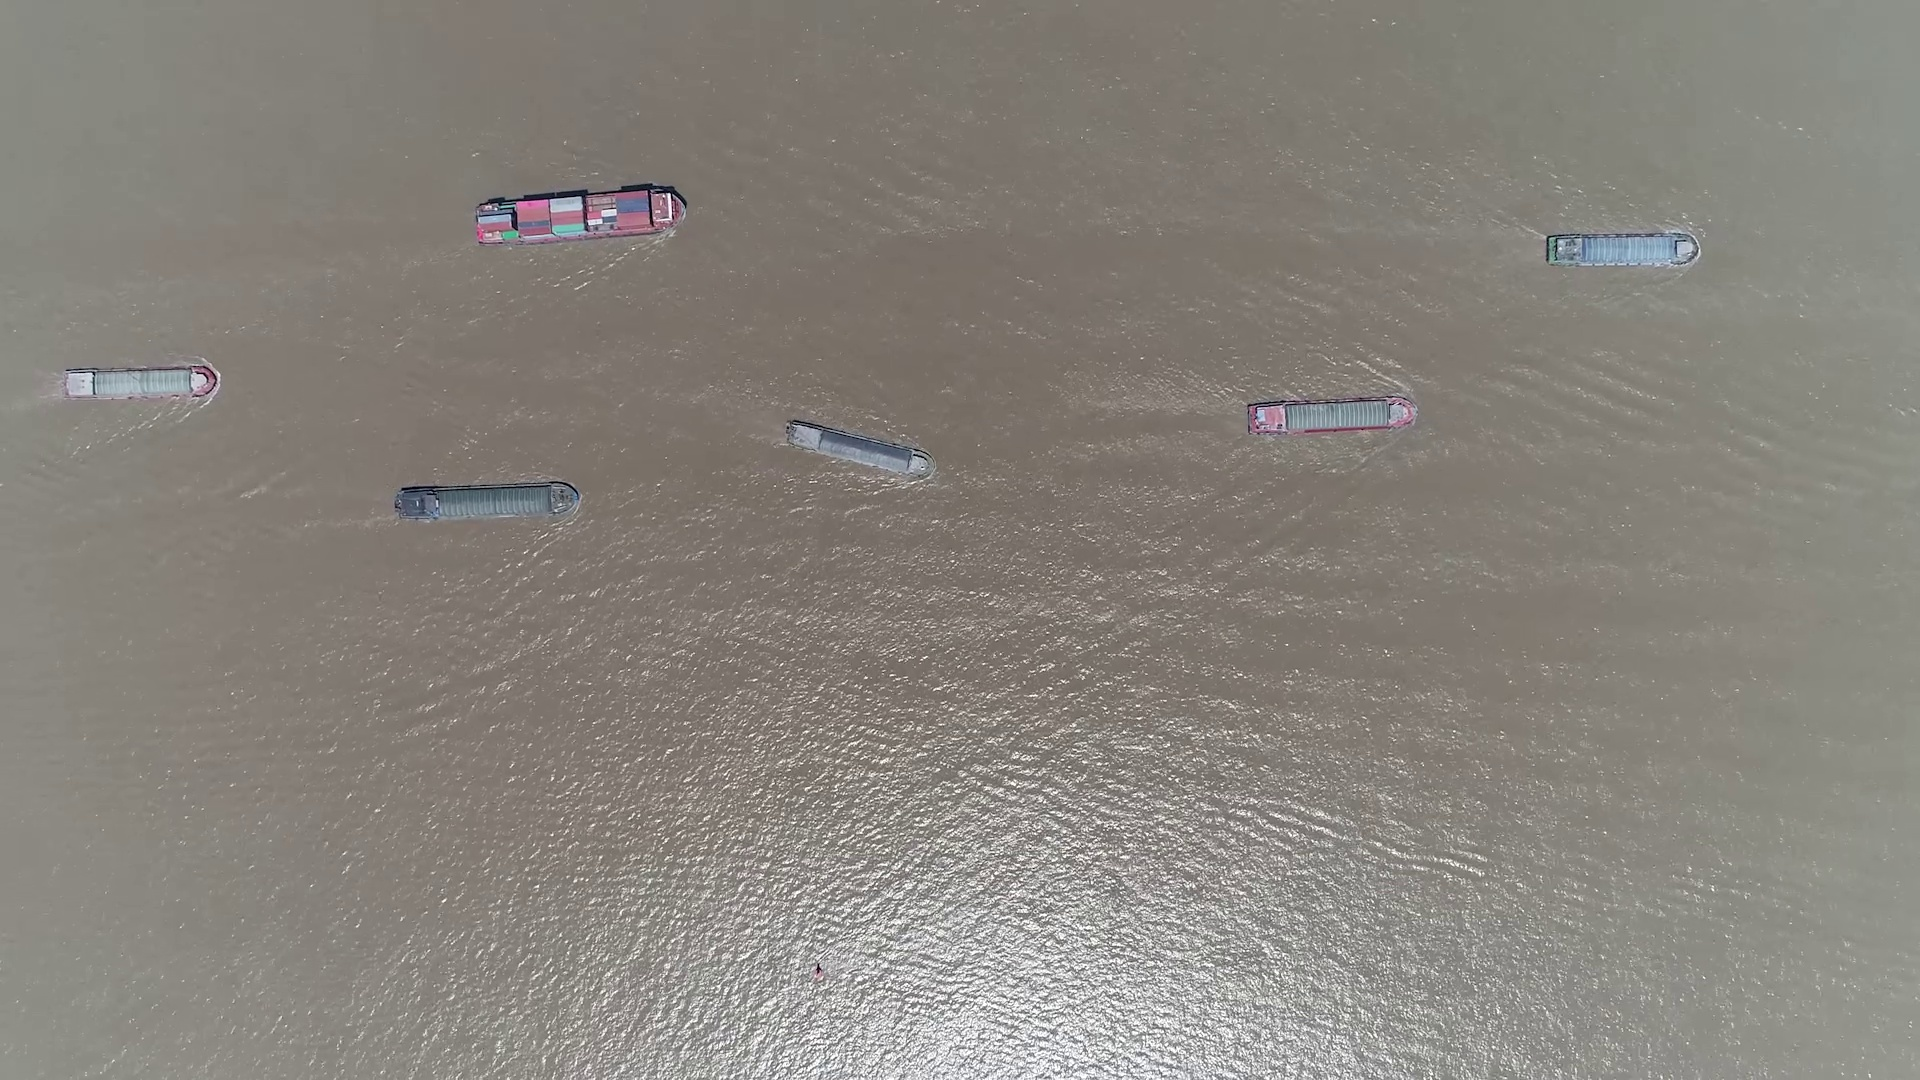ship: (475, 187, 686, 244), (785, 419, 931, 477), (393, 483, 582, 522), (1249, 396, 1418, 435), (59, 367, 215, 400), (1545, 233, 1698, 266)
